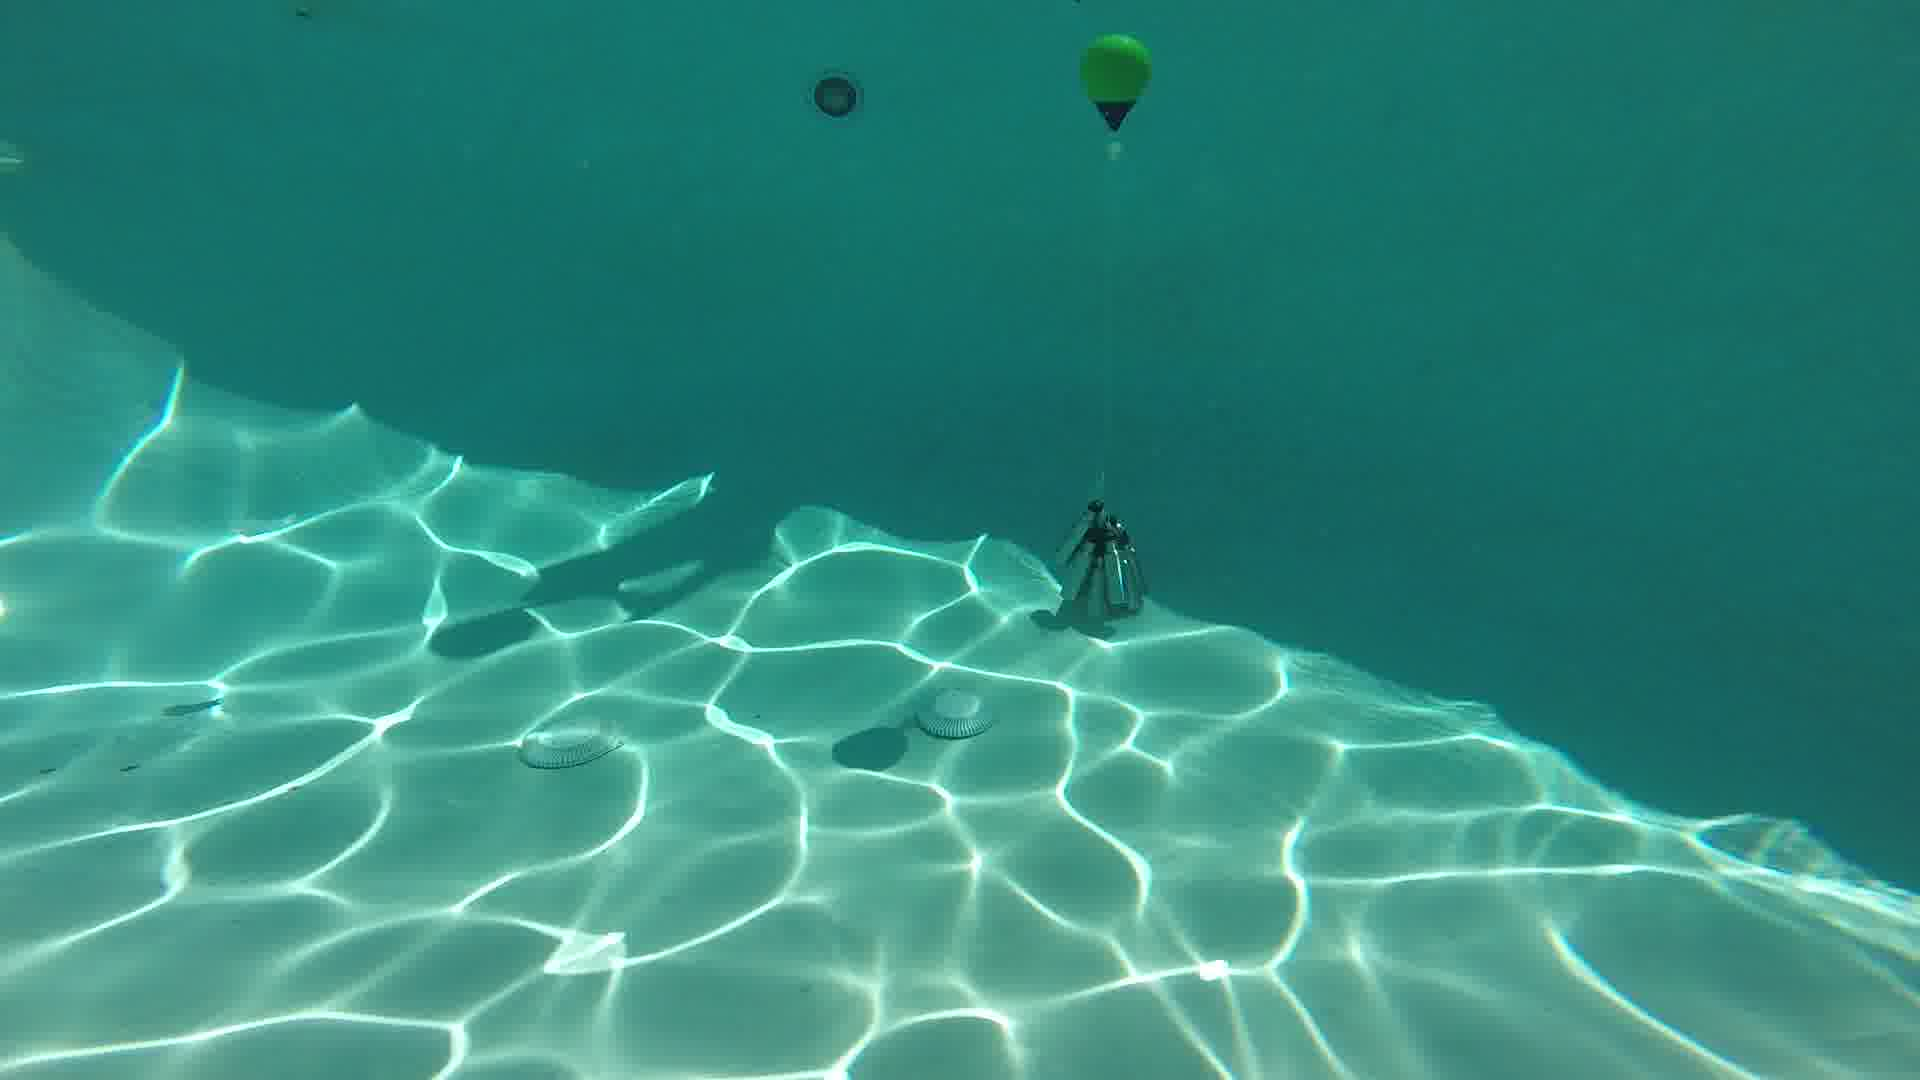yellow_buoy: (1077, 34, 1155, 160)
